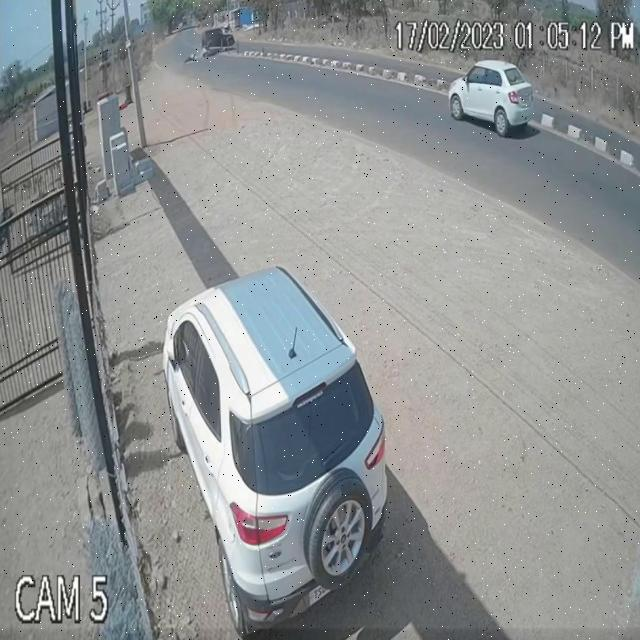accident: (186, 22, 239, 69)
